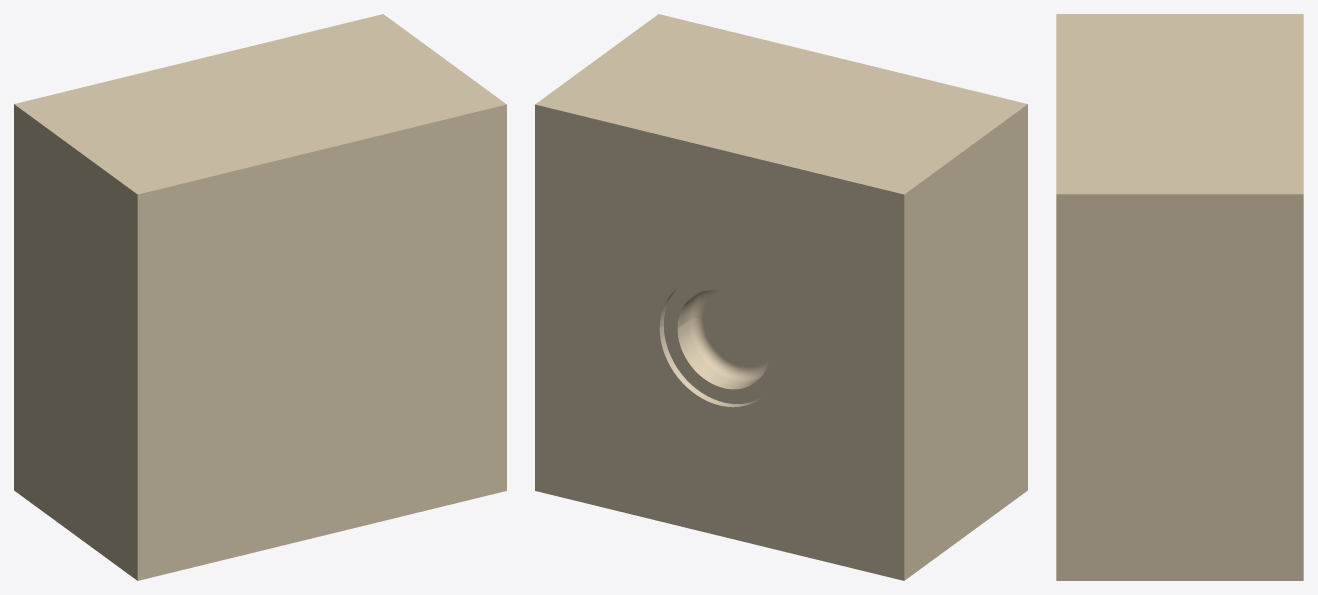
File: .HemoSure_Button_Cap_CAVITY.step.glb
3 renders of one model, left to right at view 1: azimuth 30°, elevation 25°; view 2: azimuth 150°, elevation 25°; view 3: azimuth 270°, elevation 25°, orthographic.
Parts seen in each view (by area): view 1: o1; view 2: o1; view 3: o1.
Part boxes in pixels (bbox=[...]): o1: bbox=[14, 14, 506, 580]; o1: bbox=[535, 14, 1027, 580]; o1: bbox=[1056, 14, 1303, 580].
Size of the model in its own units: 0.0402 by 0.0402 by 0.0233.
